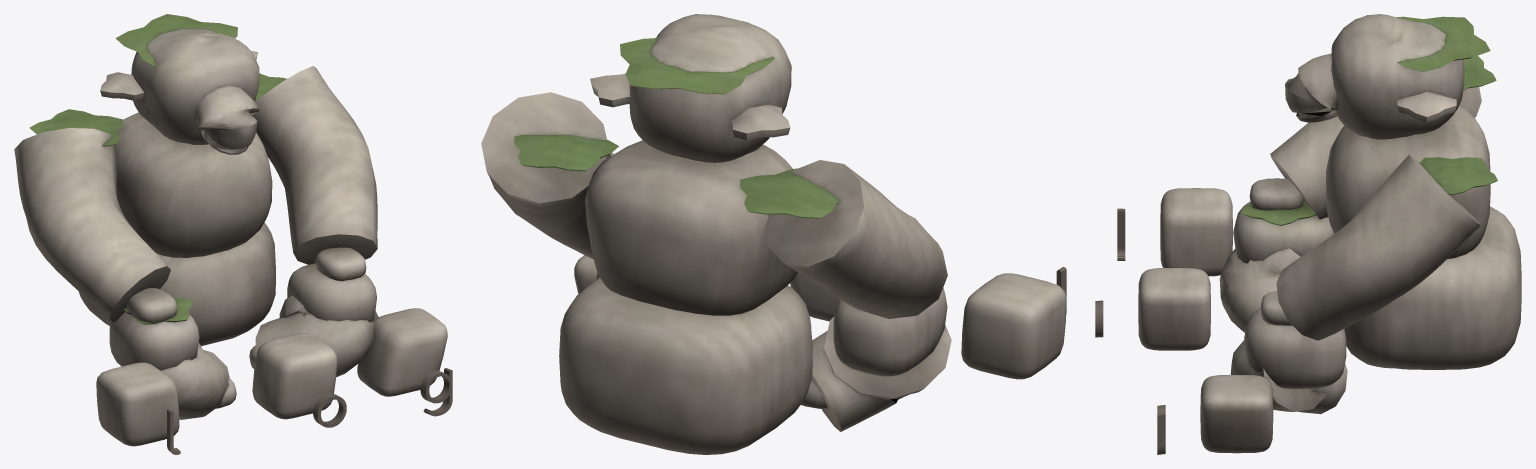
The model's file is troll.glb.
3 renders of one model, left to right at view 1: azimuth 30°, elevation 25°; view 2: azimuth 150°, elevation 25°; view 3: azimuth 270°, elevation 25°, orthographic. The views are drawn at different scales.
Visible parts, largest first — view 1: Troll; view 2: Troll; view 3: Troll.
Part boxes in pixels (<box>): Troll: <box>14,14,452,454</box>; Troll: <box>481,14,1066,454</box>; Troll: <box>1095,14,1521,454</box>.
Size of the model in its own units: 2.23 by 2.05 by 2.2.
1 material, 1 textured.
